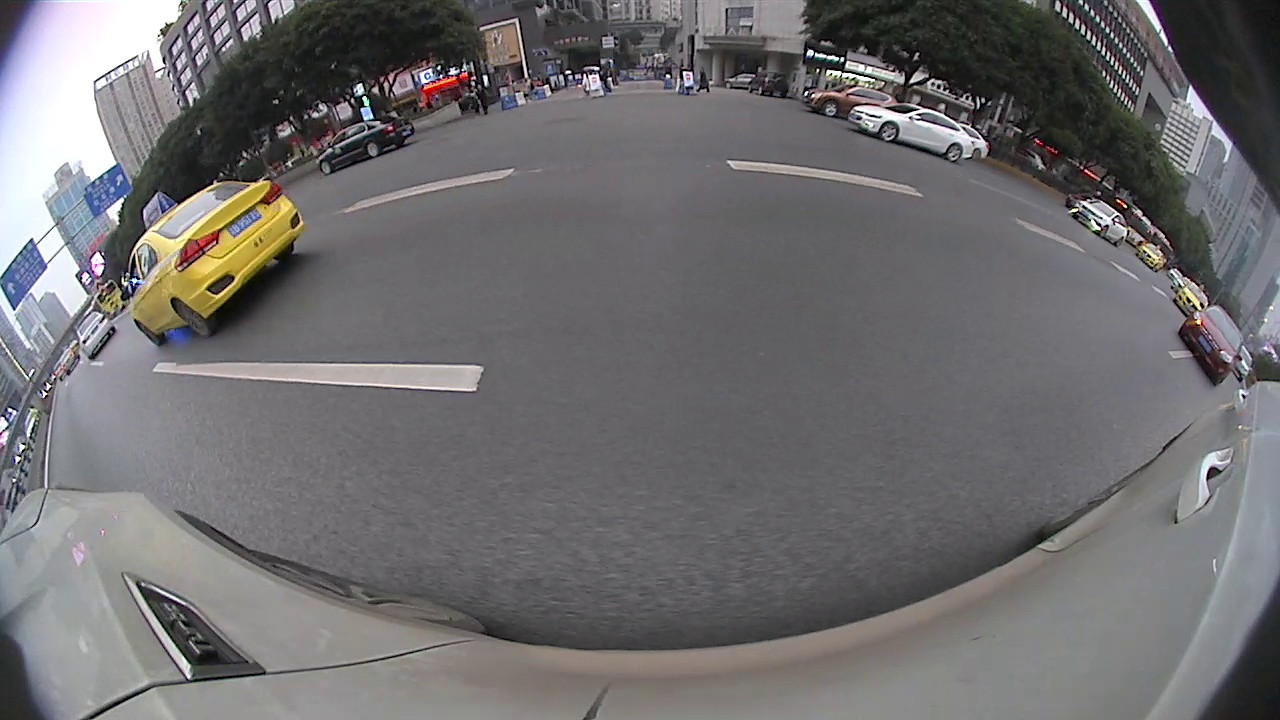car: (126, 180, 303, 348), (849, 102, 974, 163), (316, 115, 414, 176), (1178, 305, 1242, 387), (803, 82, 901, 119), (1069, 197, 1128, 248), (75, 311, 118, 363), (1172, 280, 1208, 319)
front: (135, 321, 166, 343), (880, 121, 897, 141), (824, 101, 837, 116), (321, 162, 331, 173)
rear: (172, 300, 217, 334), (948, 146, 961, 161), (367, 143, 379, 156)
